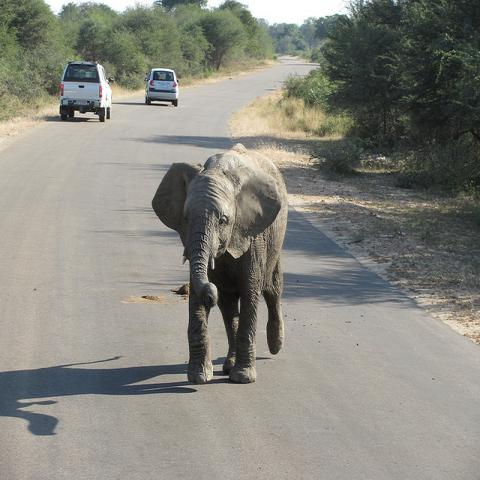car: (57, 58, 116, 123), (144, 68, 179, 106)
